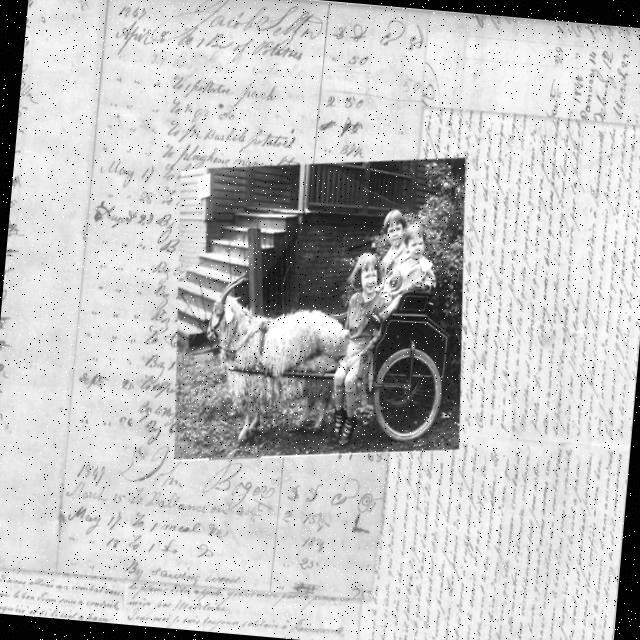sheep: (205, 293, 347, 437)
